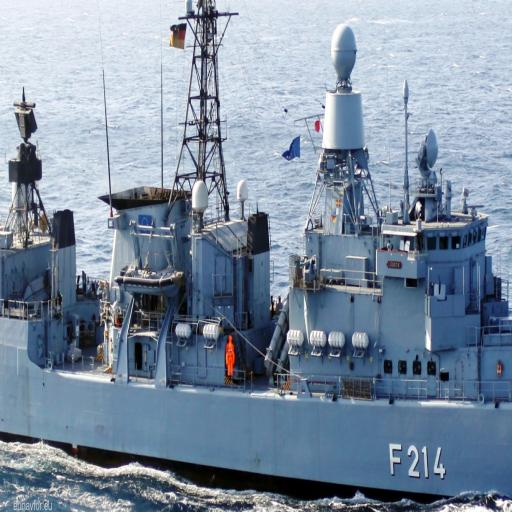Fragata: (1, 7, 512, 506)
